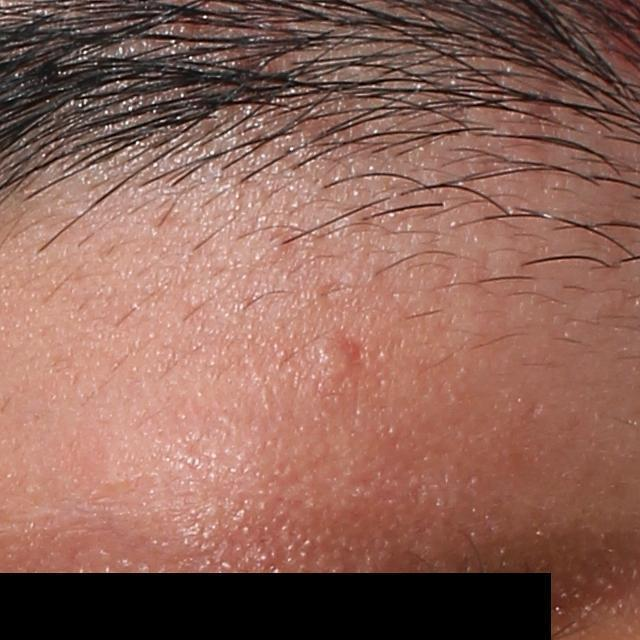other: (311, 330, 365, 384)
